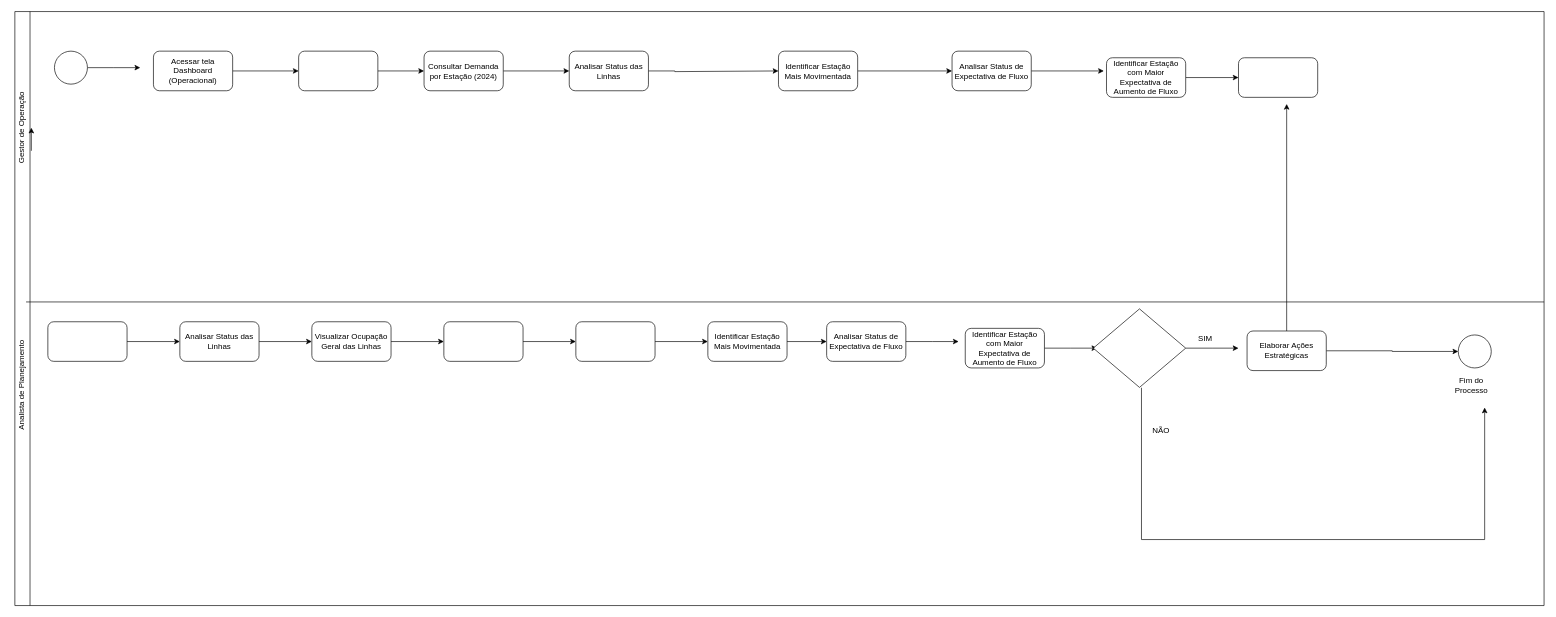
This 1556x617 diagram has some shape labels left out. Here are the shapes that lost their labels. From the top down, the centre of each, then its label:
(338,70): Consultar Demanda por Linha (2024)
(1278,77): Colocar em Prática as Ações Estratégicas
(87,341): Acessar tela Dashboard (Histórico/Detalhado)
(483,341): Analisar gráfico de Demanda por Linha (2020-2024)
(615,341): Analisar gráfico de Demanda por Estação (2020-2024)
(1139,347): A expectativa de aumento de fluxo é relevante?
